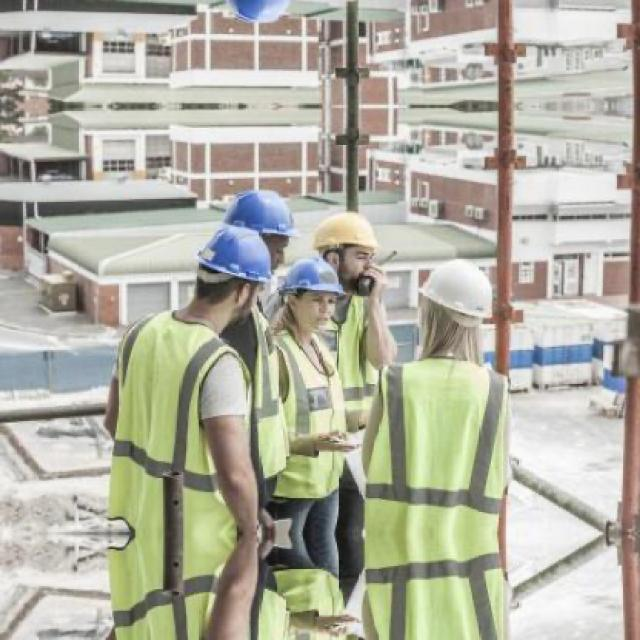helmet: (197, 199, 285, 318), (415, 255, 500, 353), (271, 253, 349, 338), (308, 210, 386, 288), (226, 188, 302, 259), (226, 0, 303, 26)
